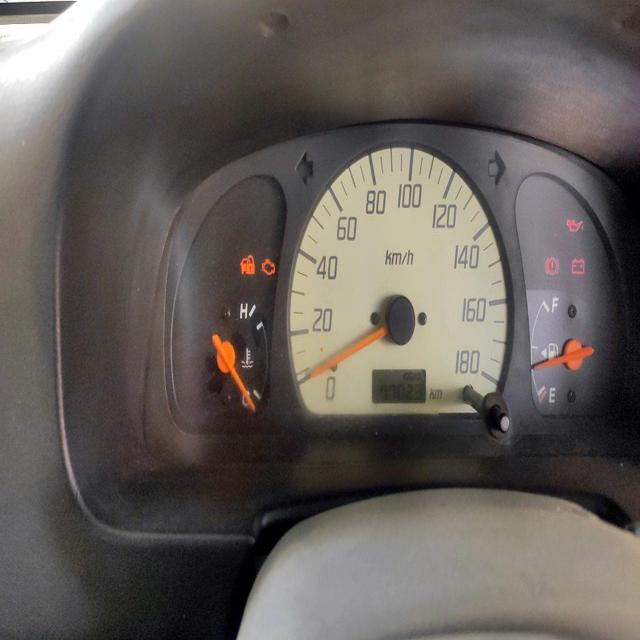odometer: (377, 384, 427, 401)
